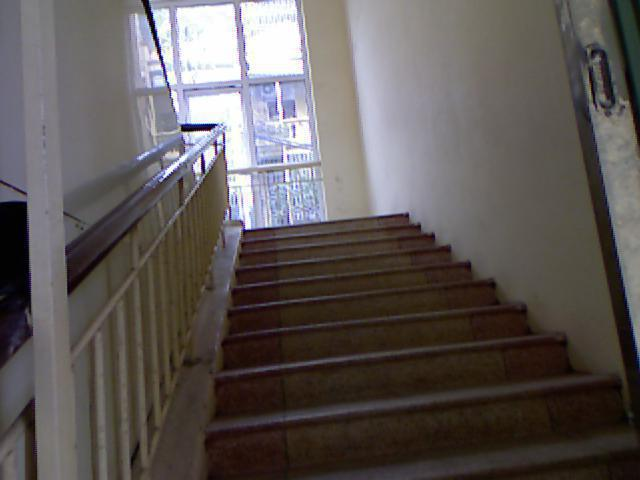Escaleras: (215, 217, 639, 479)
